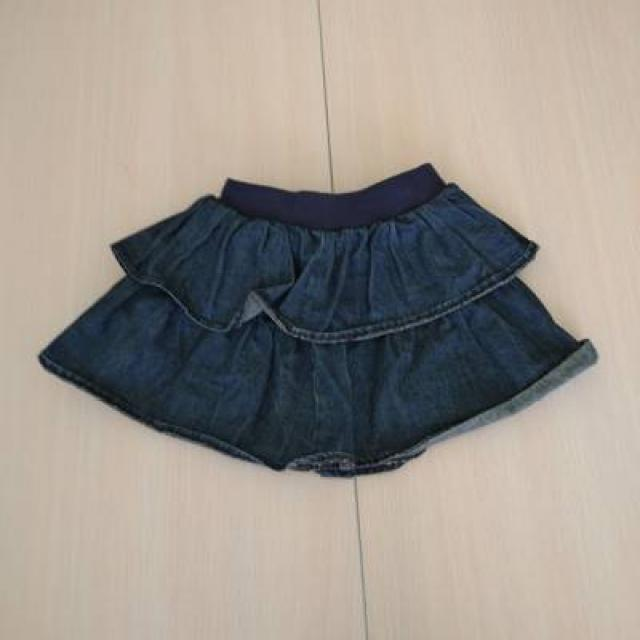Clothes -Biodegradable-: (39, 161, 599, 473)
